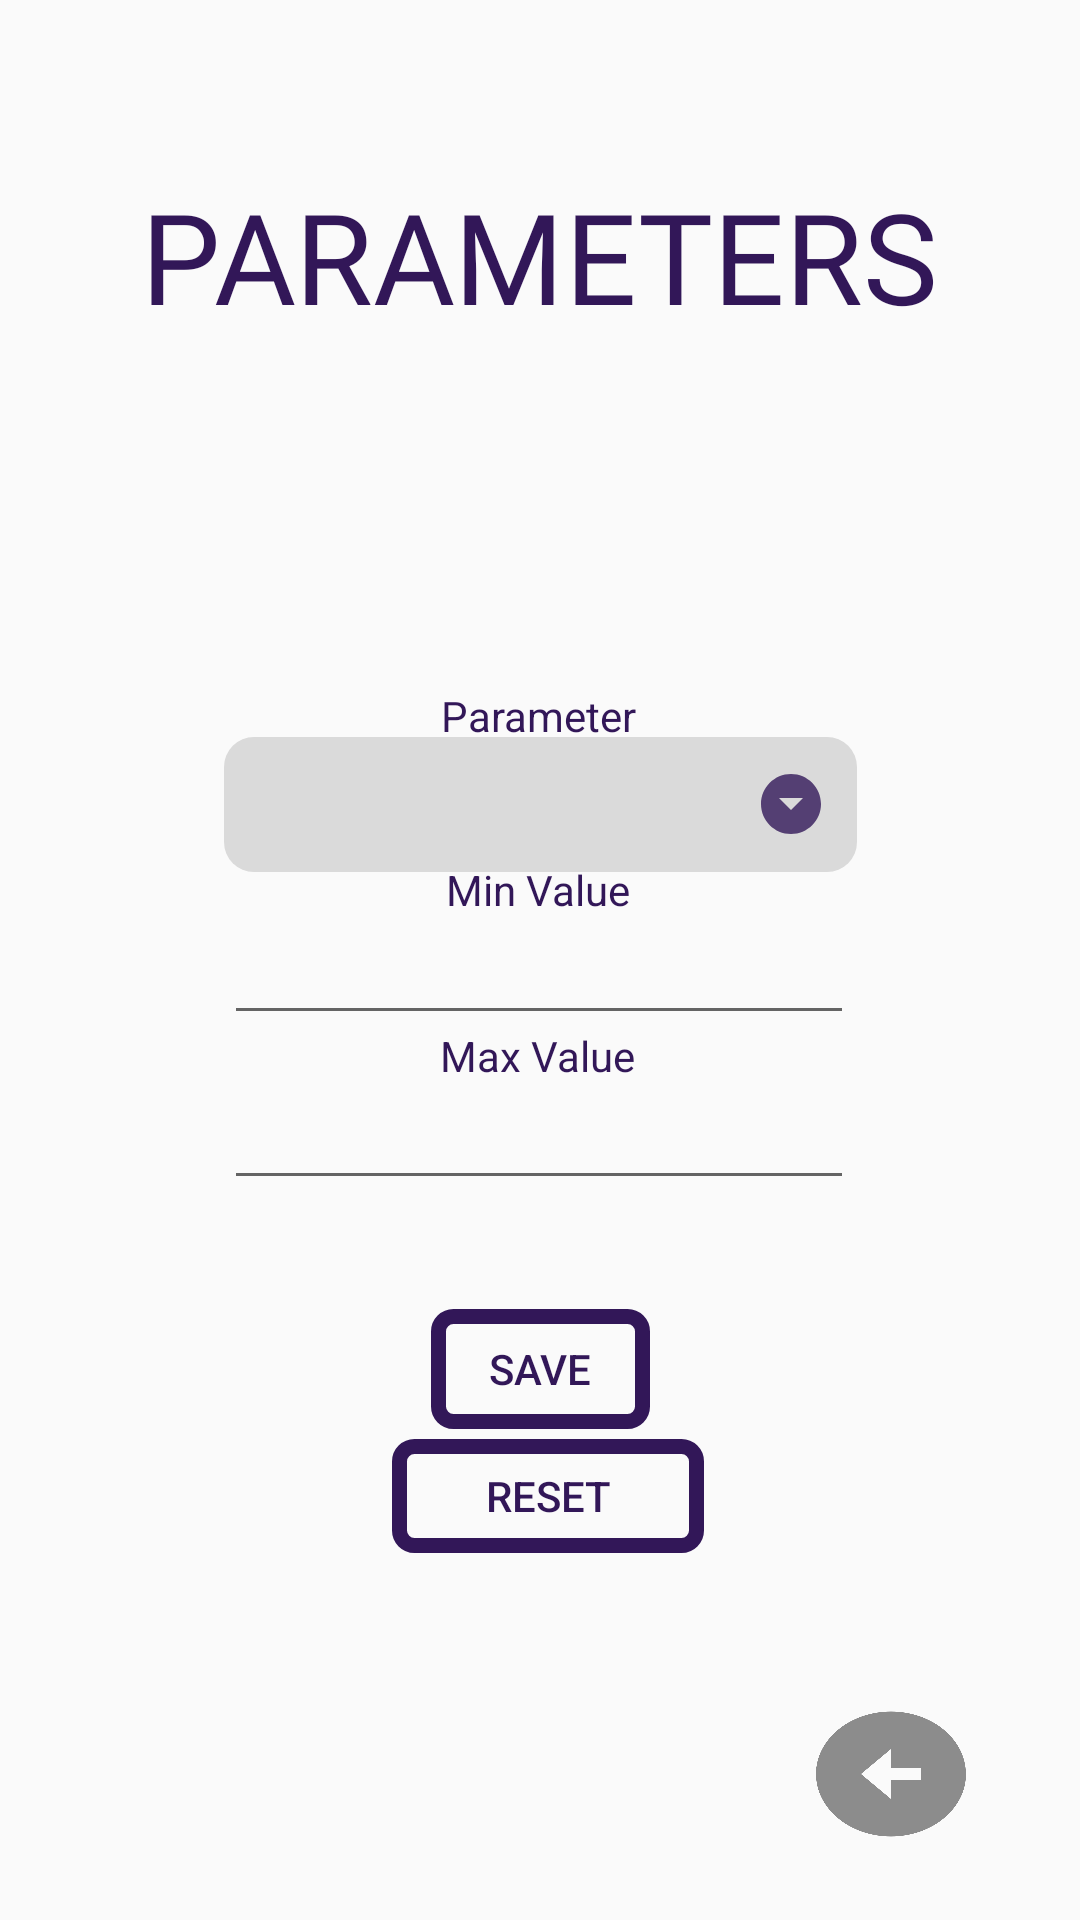

Icon bounding boxes for this 1080x1920 phone screenshot, format region(x1, y1, x2, y2):
back: region(816, 1711, 966, 1837)
